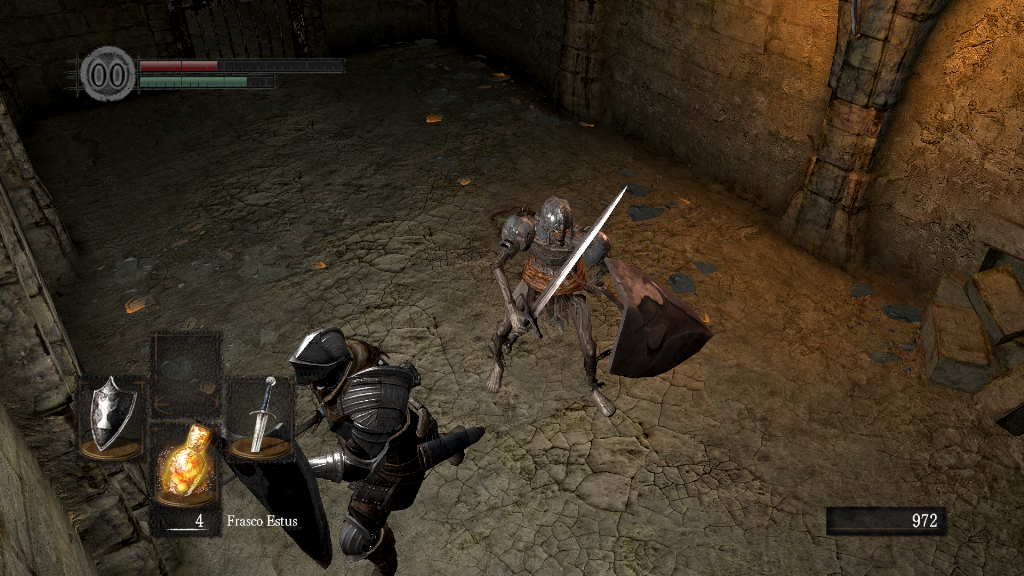health: (138, 58, 343, 71)
humanity: (80, 45, 136, 102)
player: (189, 328, 489, 576)
souls: (825, 506, 945, 536)
stamina: (138, 74, 274, 88)
undeadSoldier: (489, 198, 617, 428)
